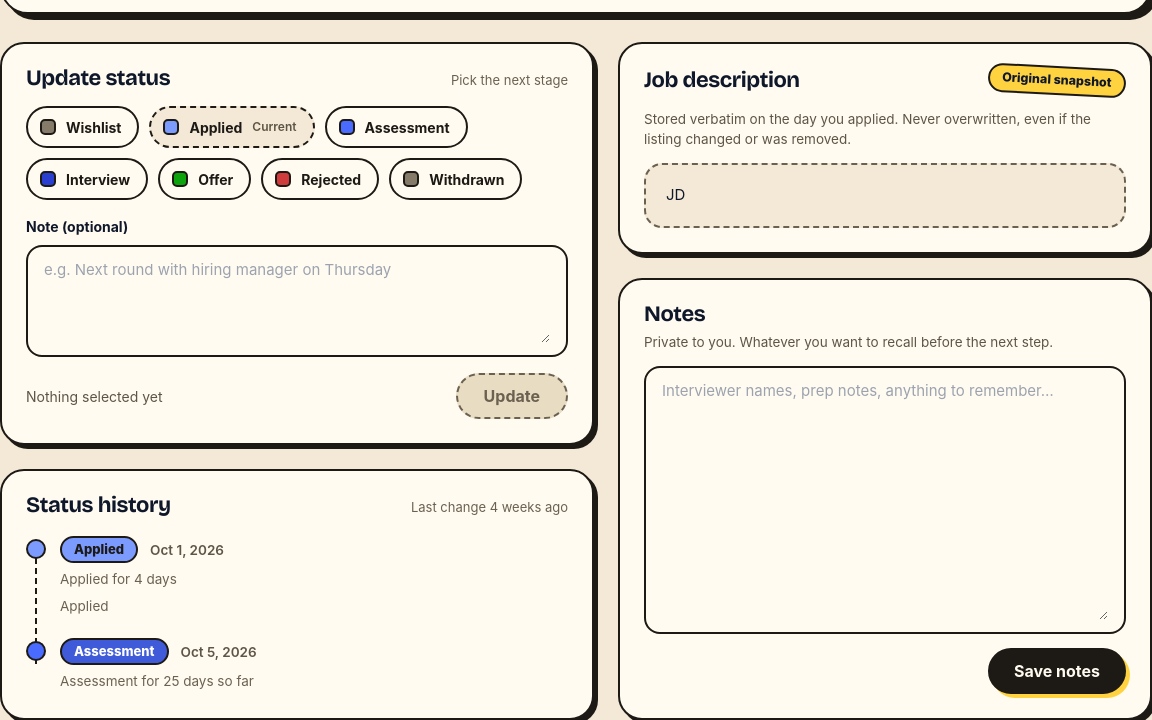
Test case: ApplicationDetailPage › keeps the typed notes on screen and re-enables Save when the save fails
(page scrolled)
Type "Draft that must survive a failure" into the text box with placeholder "Interviewer names, prep notes, anything to remember…" at (885,500), box [662,380,1108,620]
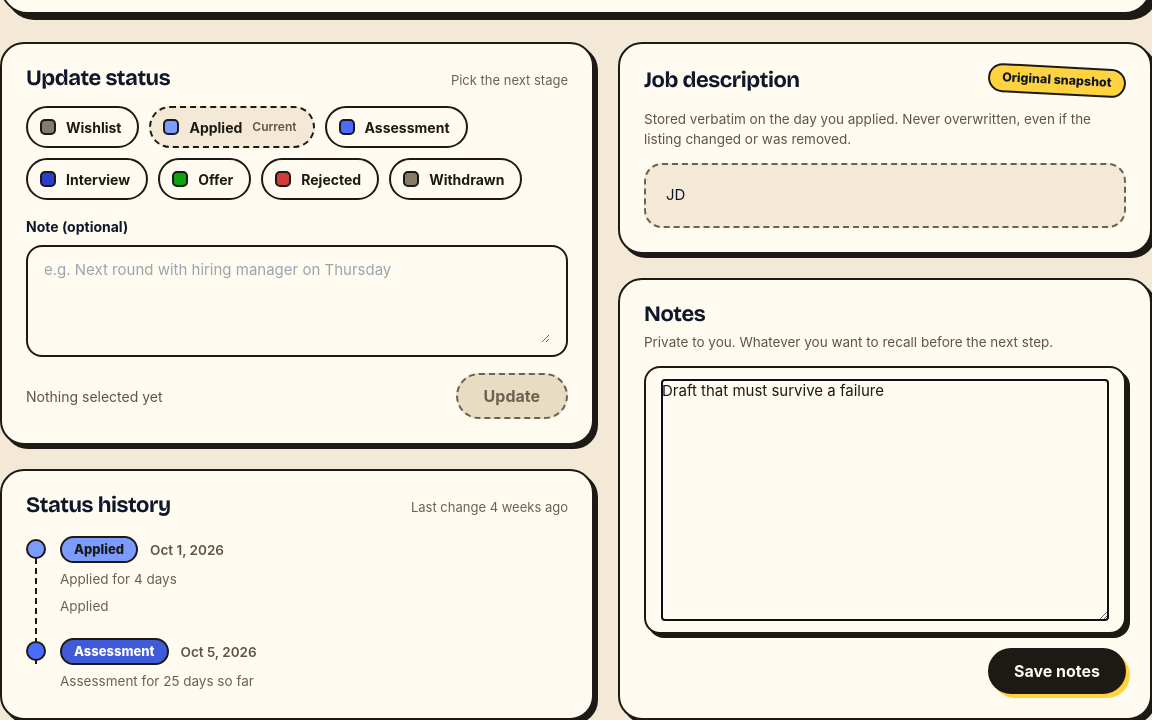
Click the button "Save notes" at (1057,671), box [988,648,1126,694]
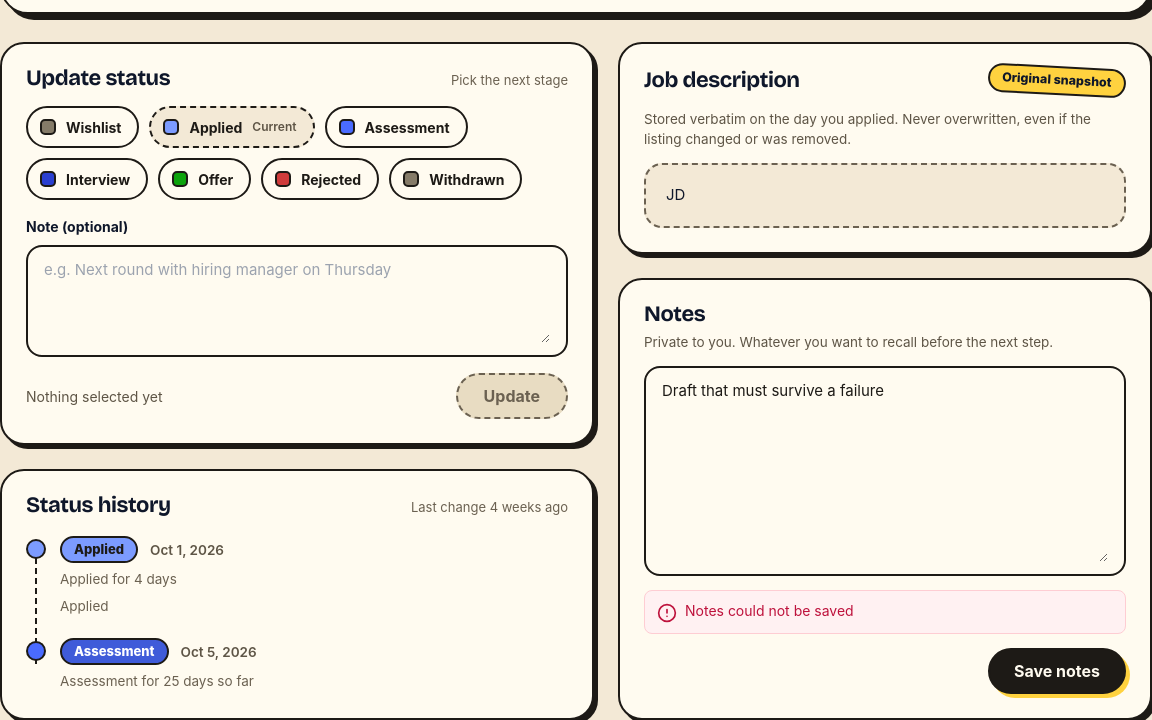
Expected: the message "Notes could not be saved" is shown, [644,590,1126,634]
Expected: the message reads "Notes could not be saved", [685,602,854,619]
